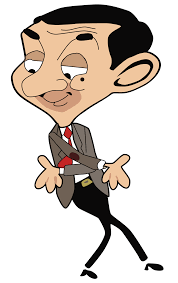mrbean: (5, 10, 172, 276)
